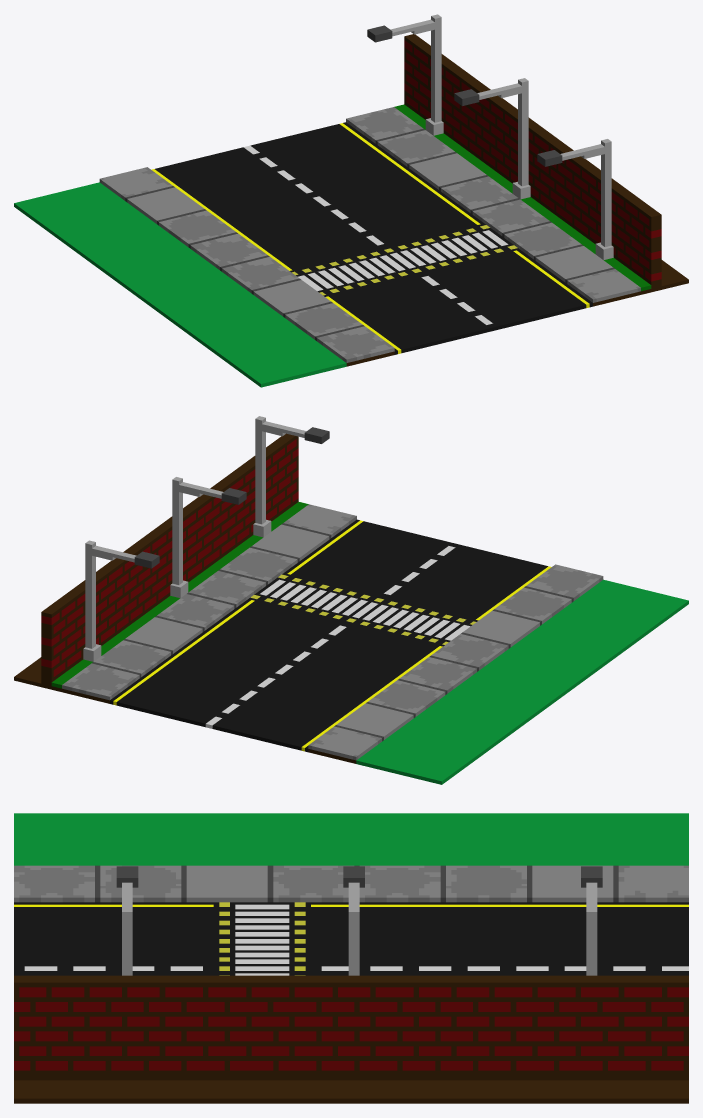
Rendered from newPrototypeLevel-9.obj.
3 views of the same model, one above another, from view 1: azimuth 30°, elevation 25°; view 2: azimuth 150°, elevation 25°; view 3: azimuth 270°, elevation 25° (orthographic). The views are drawn at different scales.
Visible parts, largest first — view 1: newPrototypeLevel-9; view 2: newPrototypeLevel-9; view 3: newPrototypeLevel-9.
Boxes of the visible parts, left/top/right/bottom form: newPrototypeLevel-9: left=14, top=14, right=688, bottom=387; newPrototypeLevel-9: left=14, top=416, right=688, bottom=784; newPrototypeLevel-9: left=14, top=813, right=688, bottom=1103.
Size of the model in its own units: 125 by 34 by 125.
1 material, 1 textured.
